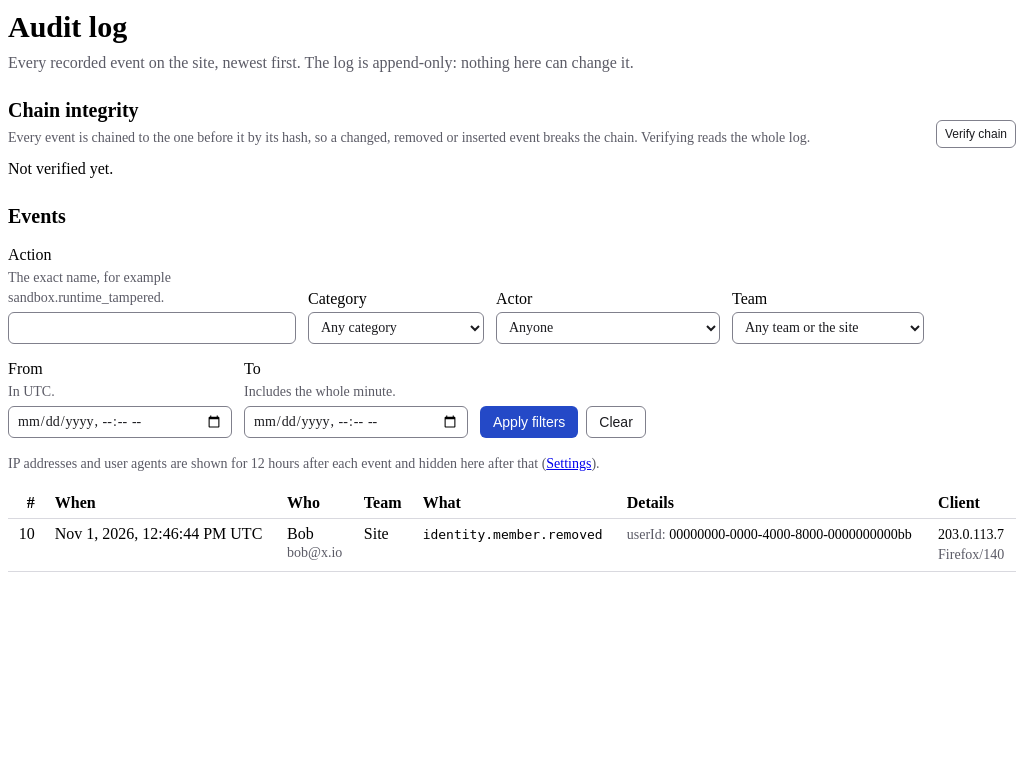
Test: Site audit log (KOBE-291) › doesn't verify the chain on open: it says so until Verify chain is pressed
The width and height of the screenshot is (1024, 768).
Check: the text "Not verified yet." is shown, box [8,160,113,176]
Click the button "Verify chain" at (976, 134), box [936,120,1016,148]
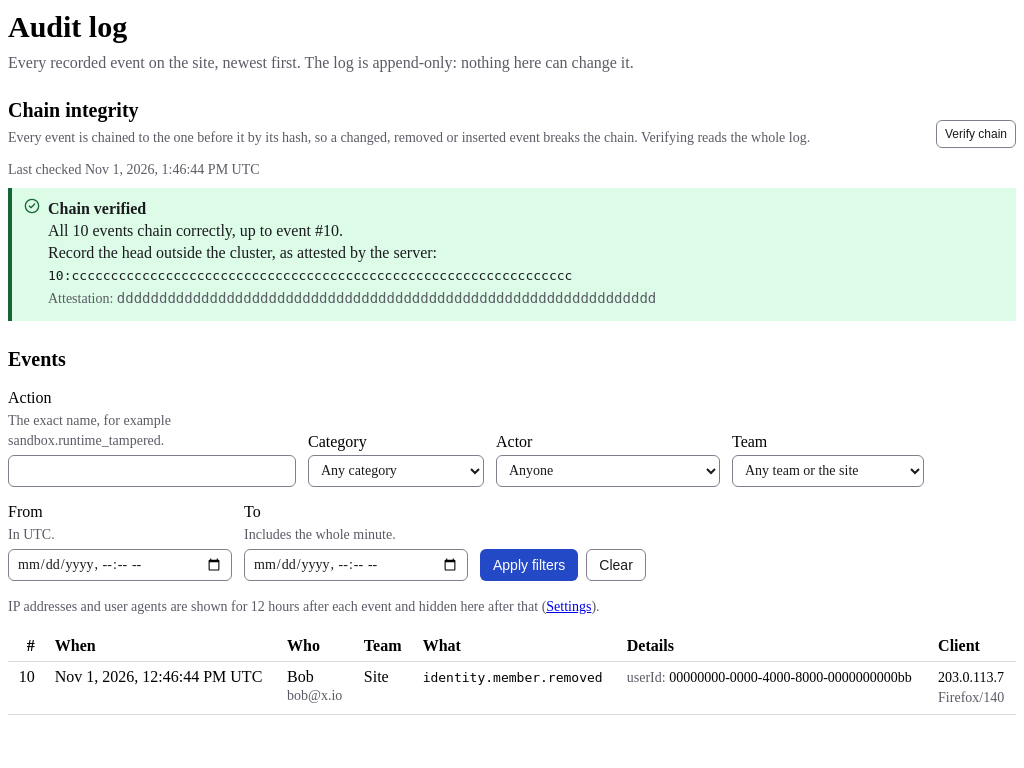
Check: the text "Chain verified" is shown, box [48,200,146,216]
Check: the element "Chain integrity" shows "All 10 events chain correctly, up to event #10", box [8,96,1016,320]
Check: the text "Not verified yet." is gone
